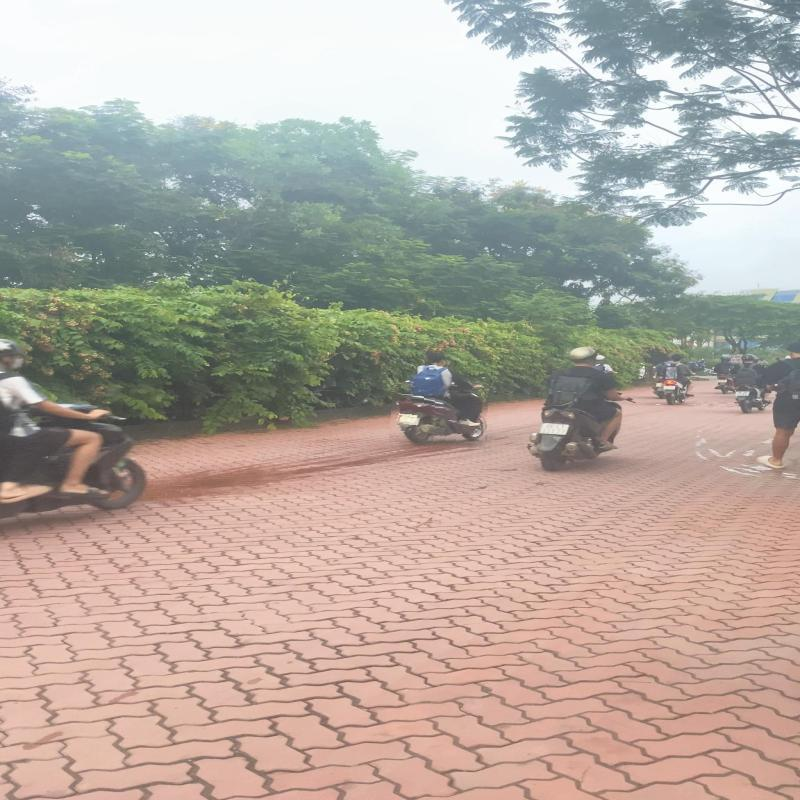licenseplate: (398, 416, 420, 426)
motorcyclist: (391, 350, 491, 448)
nohelmet: (426, 352, 448, 366)
